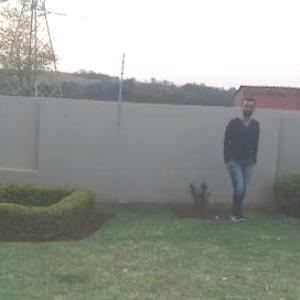follow: (202, 94, 259, 223)
